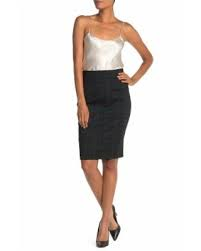F_tailored skirt: (75, 68, 134, 161)
